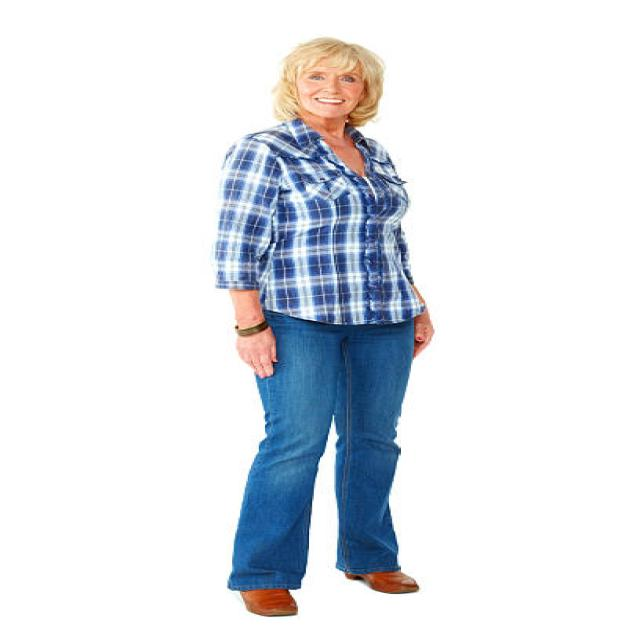Edited images: (191, 26, 470, 632)
